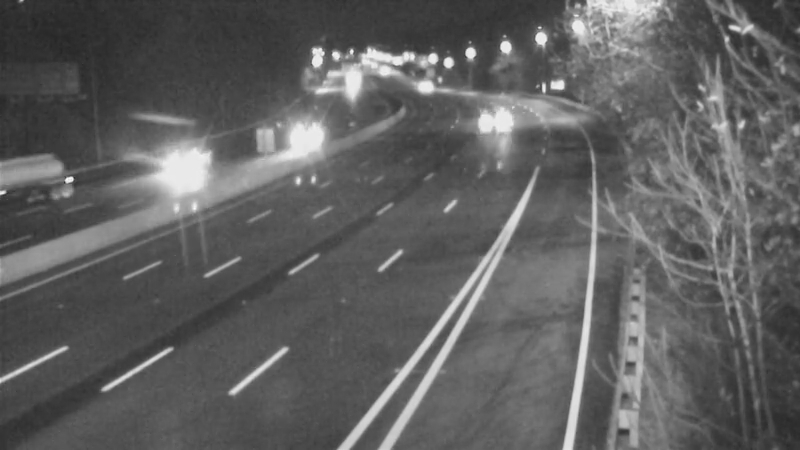vehicle: (134, 130, 214, 210), (1, 142, 74, 222), (397, 59, 447, 109), (471, 90, 521, 140), (274, 110, 324, 160)
